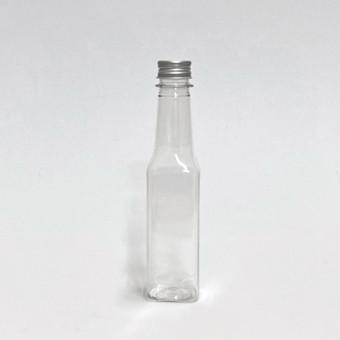bottle: (143, 60, 203, 300)
